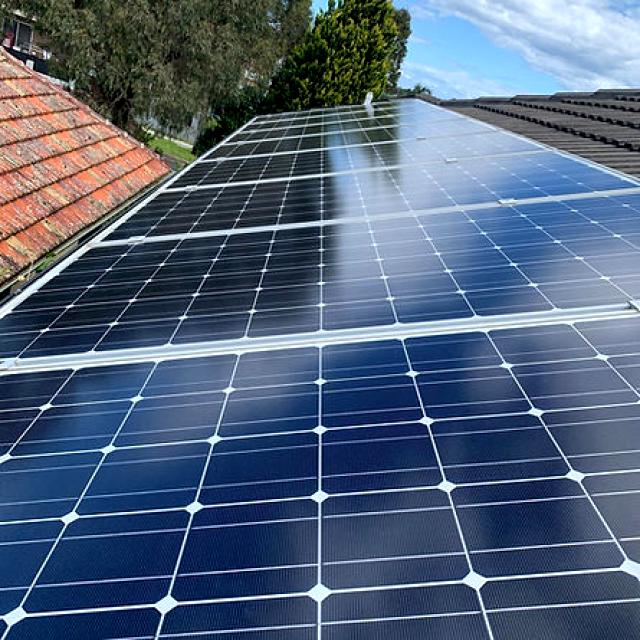crack: (204, 396, 534, 584), (59, 368, 323, 530), (440, 401, 612, 588), (180, 249, 372, 373), (324, 230, 484, 318), (274, 164, 420, 246)
